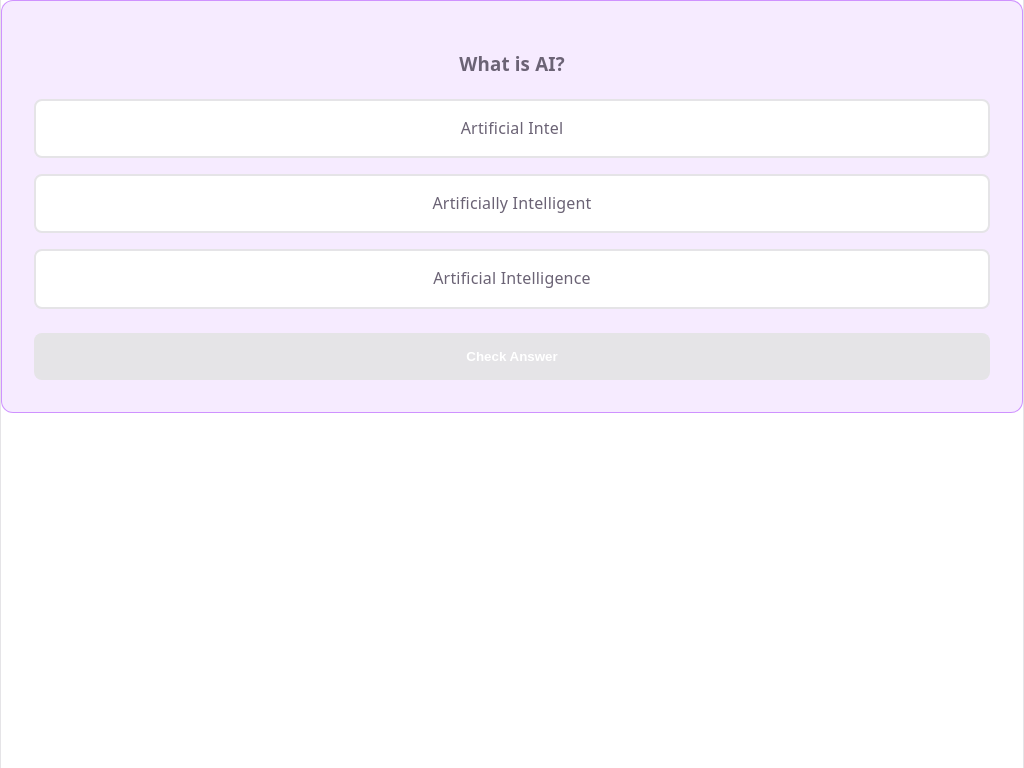
Test case: Quiz › should show error on incorrect answer
The image size is (1024, 768).
Click the text "Artificial Intel".
click(512, 128)  # box [34,99,990,158]
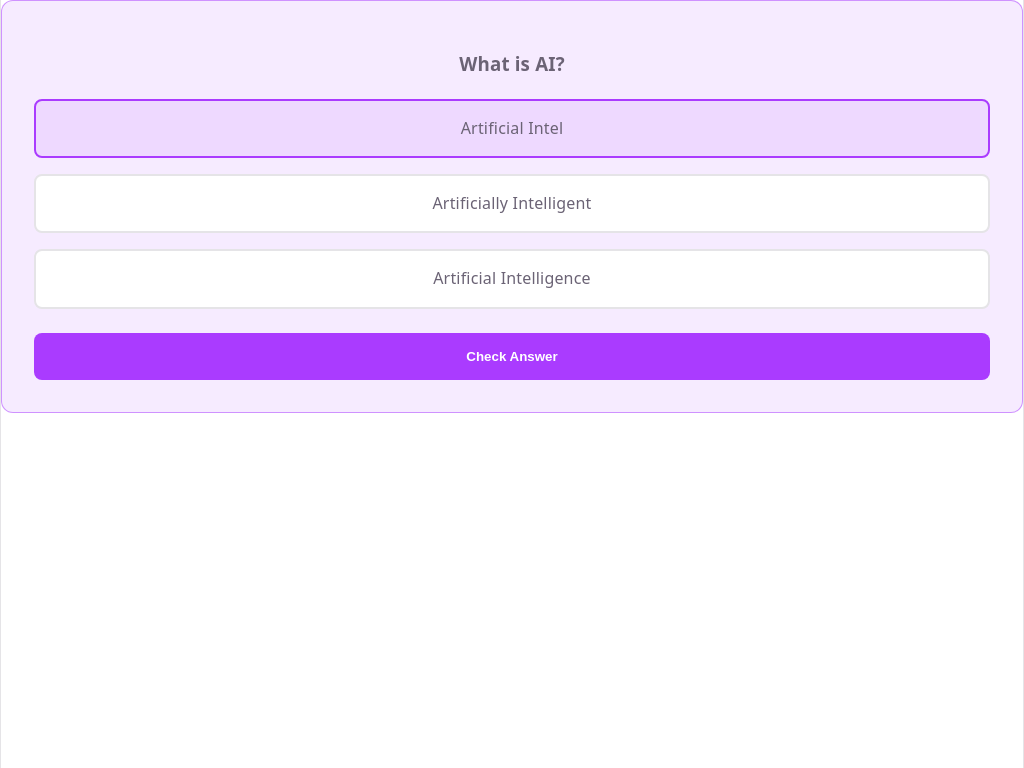
Click the button "Check Answer".
click(512, 356)  # box [34,332,990,380]
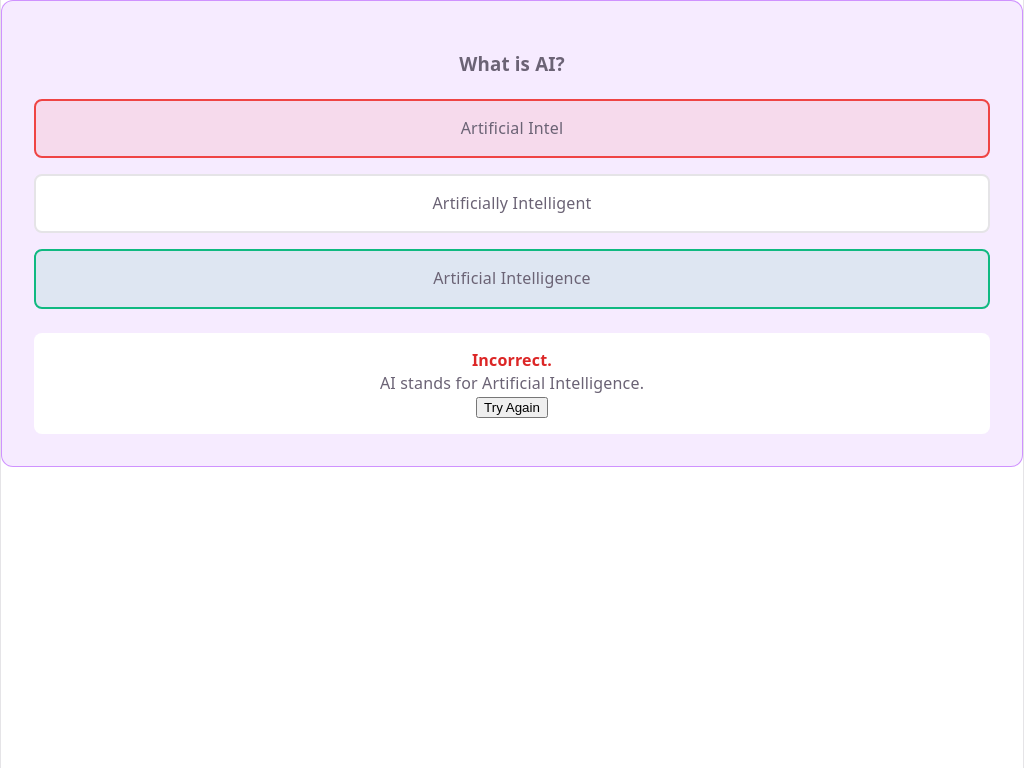
Expected: the text "Incorrect." is shown, [472,348,552,370]
